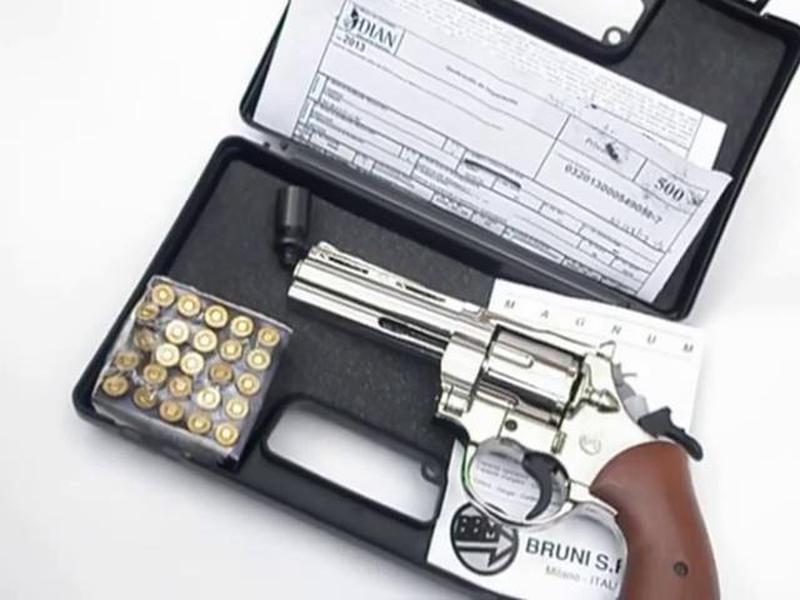Revolver: (271, 211, 694, 600)
